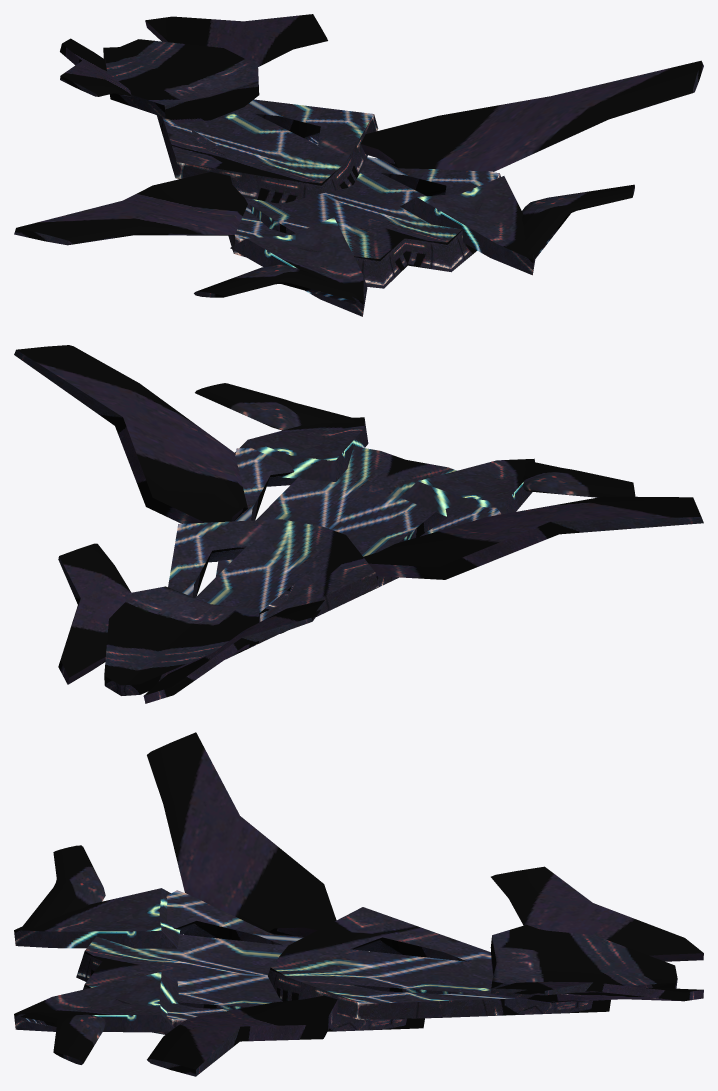
The model's file is Tornaving.fbx.
The picture shows the model from 3 angles, top to bottom: view 1: azimuth 30°, elevation 25°; view 2: azimuth 150°, elevation 25°; view 3: azimuth 270°, elevation 25°; orthographic projection.
Visible parts, largest first — view 1: 00_Core, 08_WingRight, 02_NoseRight, 04_PodRight, 03_PodLeft, 01_NoseLeft, 06_FrontRight, 07_WingLeft, 05_FrontLeft, 10_WingTipRight, 09_WingTipLeft; view 2: 00_Core, 02_NoseRight, 08_WingRight, 04_PodRight, 03_PodLeft, 01_NoseLeft, 07_WingLeft, 06_FrontRight, 05_FrontLeft, 10_WingTipRight, 09_WingTipLeft; view 3: 00_Core, 01_NoseLeft, 07_WingLeft, 03_PodLeft, 04_PodRight, 06_FrontRight, 05_FrontLeft, 02_NoseRight, 08_WingRight, 09_WingTipLeft, 10_WingTipRight.
Part boxes in pixels (x1,y1,x2,y2): 00_Core: (185, 109, 499, 288); 08_WingRight: (361, 96, 610, 171); 02_NoseRight: (120, 14, 327, 119); 04_PodRight: (400, 173, 634, 275); 03_PodLeft: (194, 217, 383, 316); 01_NoseLeft: (60, 38, 210, 122); 06_FrontRight: (238, 99, 378, 187); 07_WingLeft: (123, 172, 247, 235); 05_FrontLeft: (157, 115, 320, 203); 10_WingTipRight: (551, 60, 703, 119); 09_WingTipLeft: (14, 200, 139, 245); 00_Core: (197, 446, 500, 633); 02_NoseRight: (58, 543, 209, 695); 08_WingRight: (115, 383, 247, 523); 04_PodRight: (195, 383, 368, 486); 03_PodLeft: (401, 458, 635, 518); 01_NoseLeft: (120, 599, 326, 703); 07_WingLeft: (363, 496, 602, 579); 06_FrontRight: (168, 519, 282, 598); 05_FrontLeft: (225, 535, 378, 659); 10_WingTipRight: (14, 345, 139, 425); 09_WingTipLeft: (551, 496, 703, 534); 00_Core: (76, 890, 493, 1031); 01_NoseLeft: (490, 866, 703, 978); 07_WingLeft: (163, 802, 336, 936); 03_PodLeft: (14, 845, 196, 957); 04_PodRight: (14, 972, 196, 1064); 06_FrontRight: (271, 968, 610, 1019); 05_FrontLeft: (288, 907, 491, 973); 02_NoseRight: (490, 963, 703, 1002); 08_WingRight: (171, 995, 337, 1041); 09_WingTipLeft: (147, 732, 239, 815); 10_WingTipRight: (147, 1026, 239, 1076).
Bounding box in the file's own units: 12972 × 2016 × 11134.
Materials: 1 (1 with a texture image).
